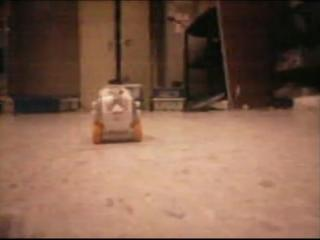cozmo: (90, 83, 144, 144)
